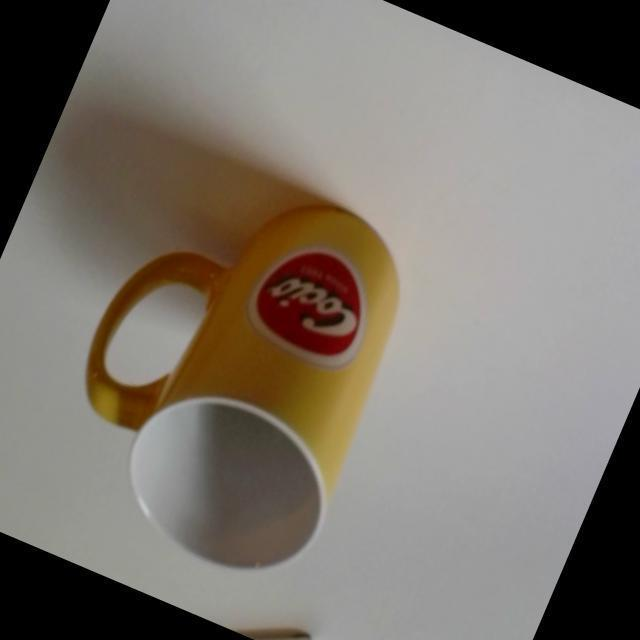cup: (29, 142, 444, 598)
